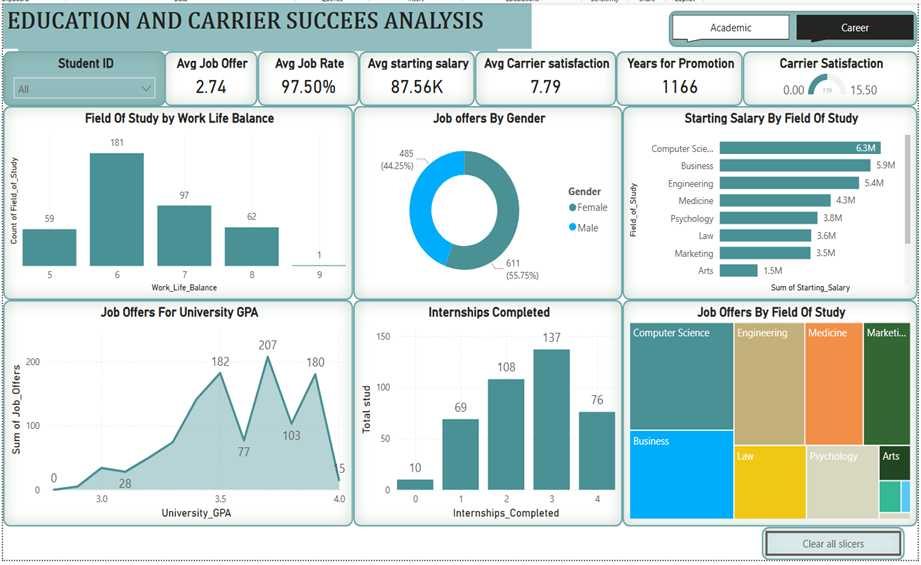

Layout of this report page (visuals, bound fields, positions):
{"tool":"powerbi","page":{"name":"Career","canvas":[1280,720],"ordinal":5},"visuals":[{"type":"textbox","box":[21.3,8,671.2,54.1],"z":0},{"type":"pageNavigator","box":[931.9,9.8,348.5,47],"z":1000},{"type":"barChart","title":"Starting Salary By Field Of Study","fields":{"Y":["Sum(education_career_success.Starting_Salary)"],"Category":["education_career_success.Field_of_Study"]},"box":[867.2,133,413.2,250.9],"z":2000},{"type":"gauge","title":" Carrier Satisfaction","fields":{"Y":["Measure.Avg carrier stisfaction"]},"box":[1035.7,62.1,244.7,70.9],"z":3000},{"type":"columnChart","title":"Field Of Study by Work Life Balance","fields":{"Category":["education_career_success.Work_Life_Balance"],"Y":["CountNonNull(education_career_success.Field_of_Study)"]},"box":[0,133,490.3,250.9],"z":4000},{"type":"card","title":"Avg starting salary","fields":{"Values":["Field_total stude.Average Salary"]},"box":[498.3,62.1,162.3,70.9],"z":5000},{"type":"textbox","box":[0,0,740.4,58.5],"z":6000},{"type":"donutChart","title":"Job offers By Gender","fields":{"Category":["education_career_success.Gender"],"Y":["Sum(education_career_success.Job_Offers)"]},"box":[490.3,133,376.8,250.9],"z":7000},{"type":"card","title":"Avg Job Offer","fields":{"Values":["education_career_success.Avg job offers"]},"box":[225.2,62.1,131.2,70.9],"z":8000},{"type":"card","title":"Avg Job Rate","fields":{"Values":["Measure.Job Offer Rate"]},"box":[356.5,62.1,141.9,70.9],"z":9000},{"type":"card","title":"Avg Carrier satisfaction","fields":{"Values":["Measure.Avg carrier stisfaction"]},"box":[660.6,62.1,197.7,70.9],"z":10000},{"type":"slicer","title":"Student ID","fields":{"Values":["education_career_success.Student_ID"]},"box":[0,62.1,227.9,70.9],"z":11000},{"type":"card","title":"Years for Promotion","fields":{"Values":["Sum(education_career_success.Years_to_Promotion)"]},"box":[858.3,62.1,177.3,70.9],"z":12000},{"type":"treemap","title":"Job Offers By Field Of Study","fields":{"Group":["education_career_success.Field_of_Study"],"Values":["Sum(education_career_success.Job_Offers)"]},"box":[867.2,383.9,413.2,293.5],"z":13000},{"type":"actionButton","box":[1062.3,677.4,200.4,42.6],"z":14000},{"type":"columnChart","title":"Internships Completed","fields":{"Category":["education_career_success.Internships_Completed"],"Y":["Measure.Total stud"]},"box":[490.3,383.9,376.8,293.5],"z":15000},{"type":"areaChart","title":"Job Offers For University GPA ","fields":{"Category":["education_career_success.University_GPA"],"Y":["Sum(education_career_success.Job_Offers)"]},"box":[0,383.9,490.3,293.5],"z":16000}]}

Visuals, with their boxes on the page's 1280x720 design canvas (x1, y1, x2, y2). These are canvas units, not pixel positions in the 921x565 screenshot, which may show the page scaled, cropped or inside an application window:
textbox: bbox(21, 8, 692, 62)
pageNavigator: bbox(932, 10, 1280, 57)
"Starting Salary By Field Of Study" barChart: bbox(867, 133, 1280, 384)
" Carrier Satisfaction" gauge: bbox(1036, 62, 1280, 133)
"Field Of Study by Work Life Balance" columnChart: bbox(0, 133, 490, 384)
"Avg starting salary" card: bbox(498, 62, 661, 133)
textbox: bbox(0, 0, 740, 58)
"Job offers By Gender" donutChart: bbox(490, 133, 867, 384)
"Avg Job Offer" card: bbox(225, 62, 356, 133)
"Avg Job Rate" card: bbox(356, 62, 498, 133)
"Avg Carrier satisfaction" card: bbox(661, 62, 858, 133)
"Student ID" slicer: bbox(0, 62, 228, 133)
"Years for Promotion" card: bbox(858, 62, 1036, 133)
"Job Offers By Field Of Study" treemap: bbox(867, 384, 1280, 677)
actionButton: bbox(1062, 677, 1263, 720)
"Internships Completed" columnChart: bbox(490, 384, 867, 677)
"Job Offers For University GPA " areaChart: bbox(0, 384, 490, 677)
